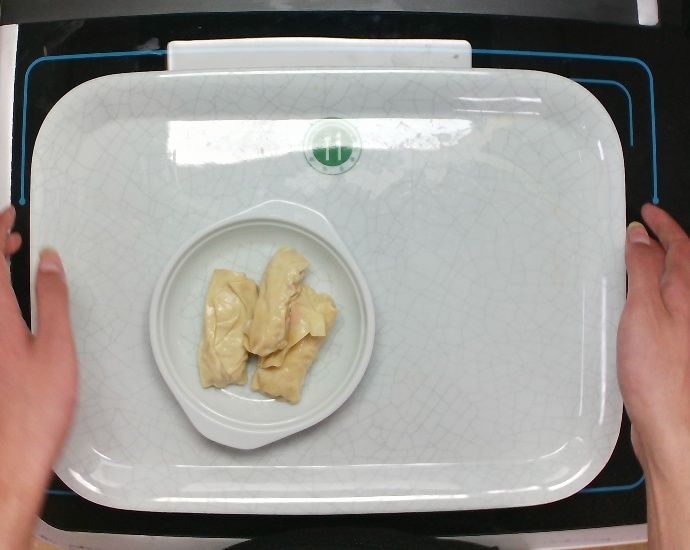JYsf-Shuang_Er_Pan: (142, 194, 380, 453)
